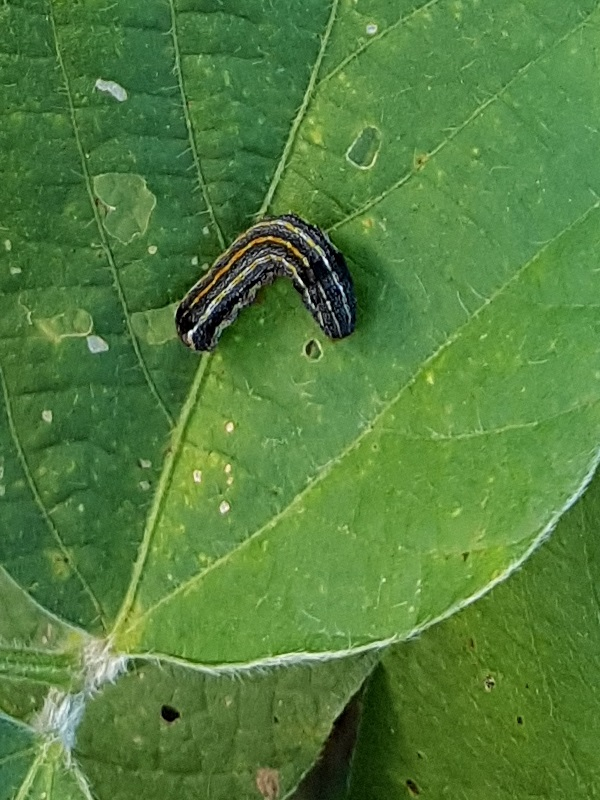Spodoptera_albula: (161, 187, 381, 381)
